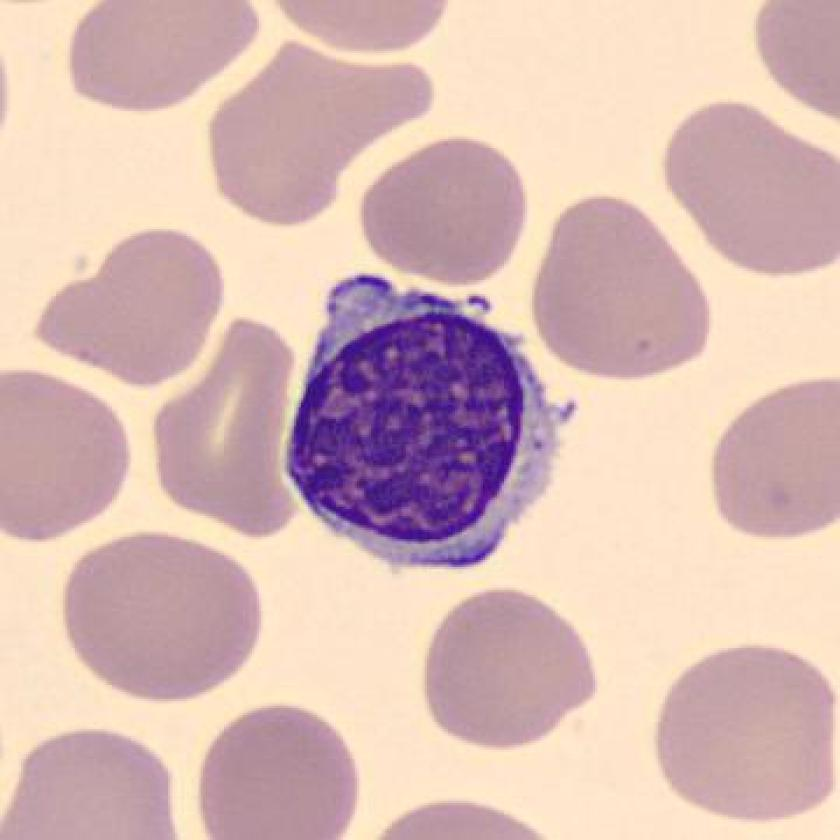lymphocyte: (270, 262, 585, 589)
